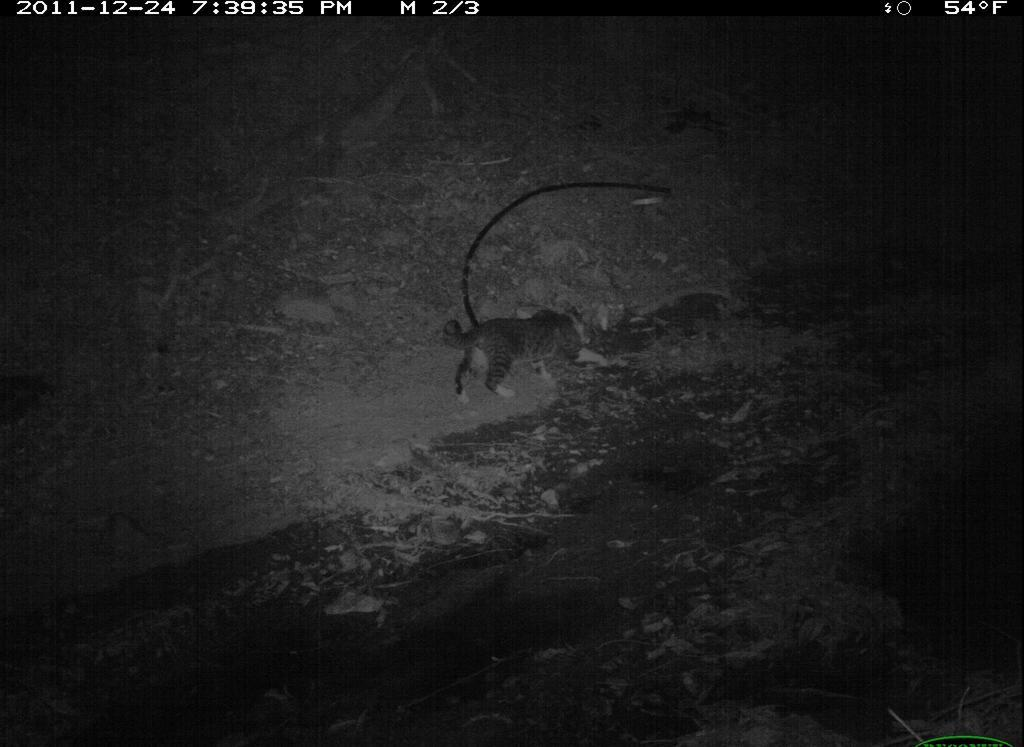cat: (438, 304, 615, 409)
